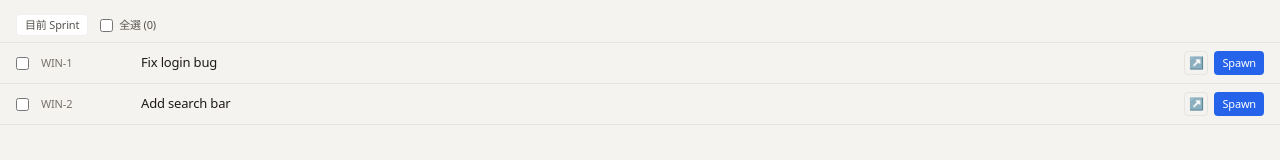
Test: IssuePanel › disables Spawn button while spawning is in progress
Expected: the text "WIN-1" is shown, [41, 55, 72, 70]
Click the button "Spawn" in the row of "Fix login bug".
click(1239, 63)  # box [1214, 51, 1264, 75]
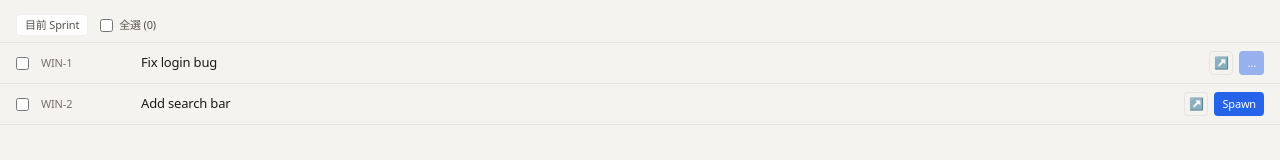
Expected: the button named "spawn" is disabled, [1240, 51, 1264, 75]
